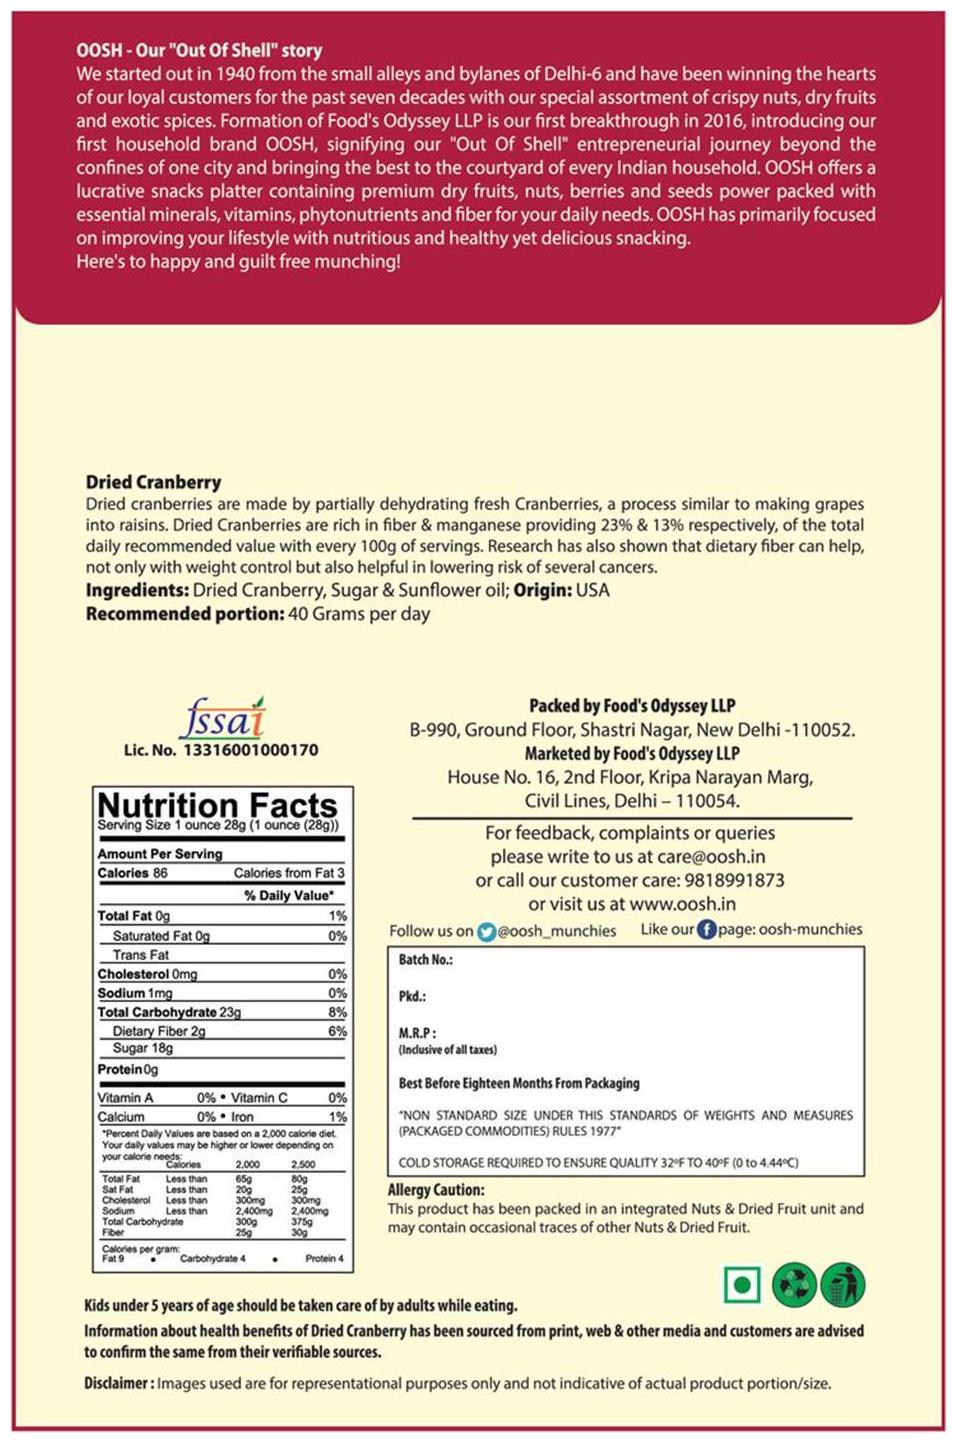fssai: (177, 695, 267, 741)
